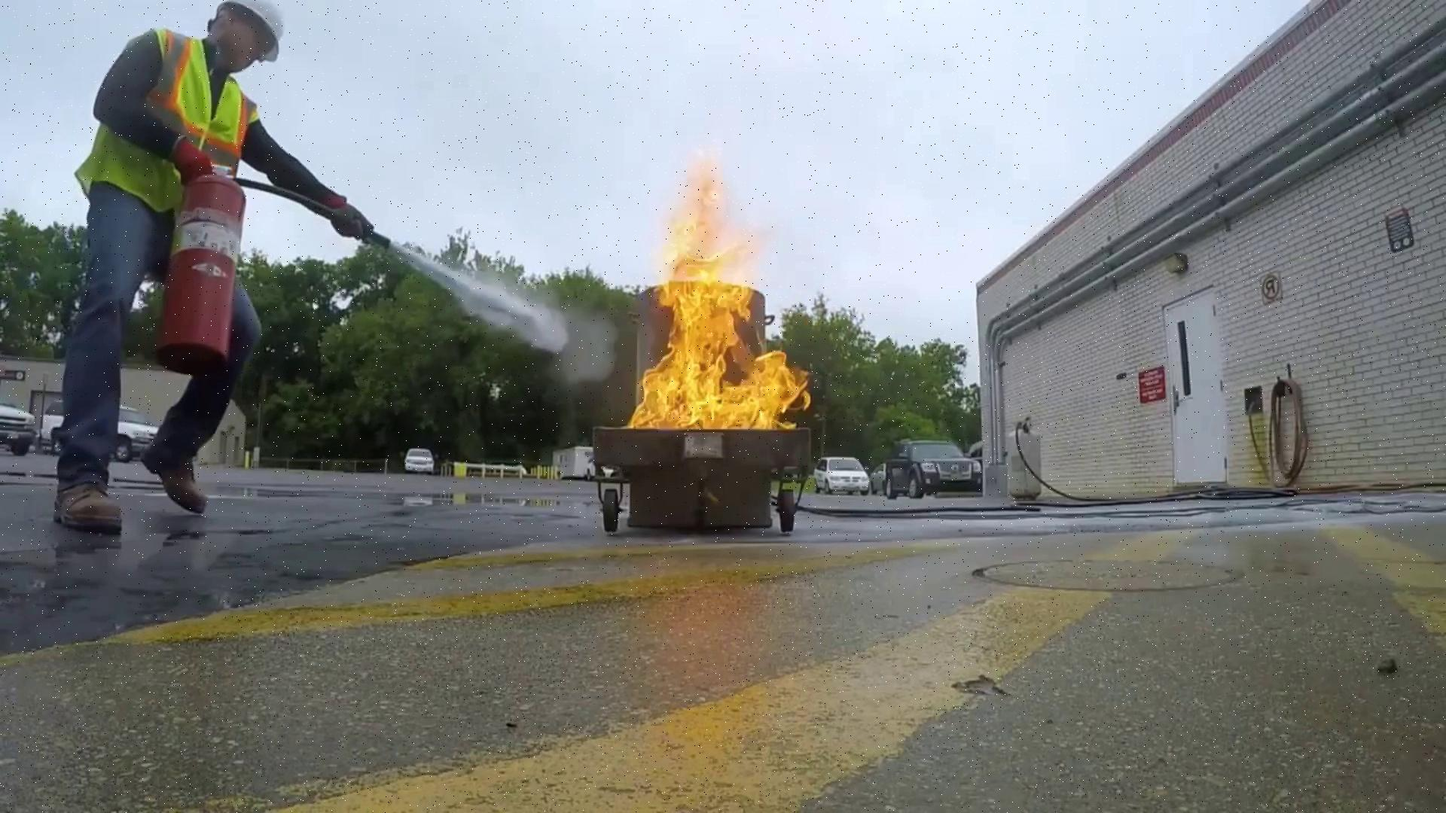Hard_hat: (213, 1, 296, 61)
Vest: (73, 32, 253, 204)
